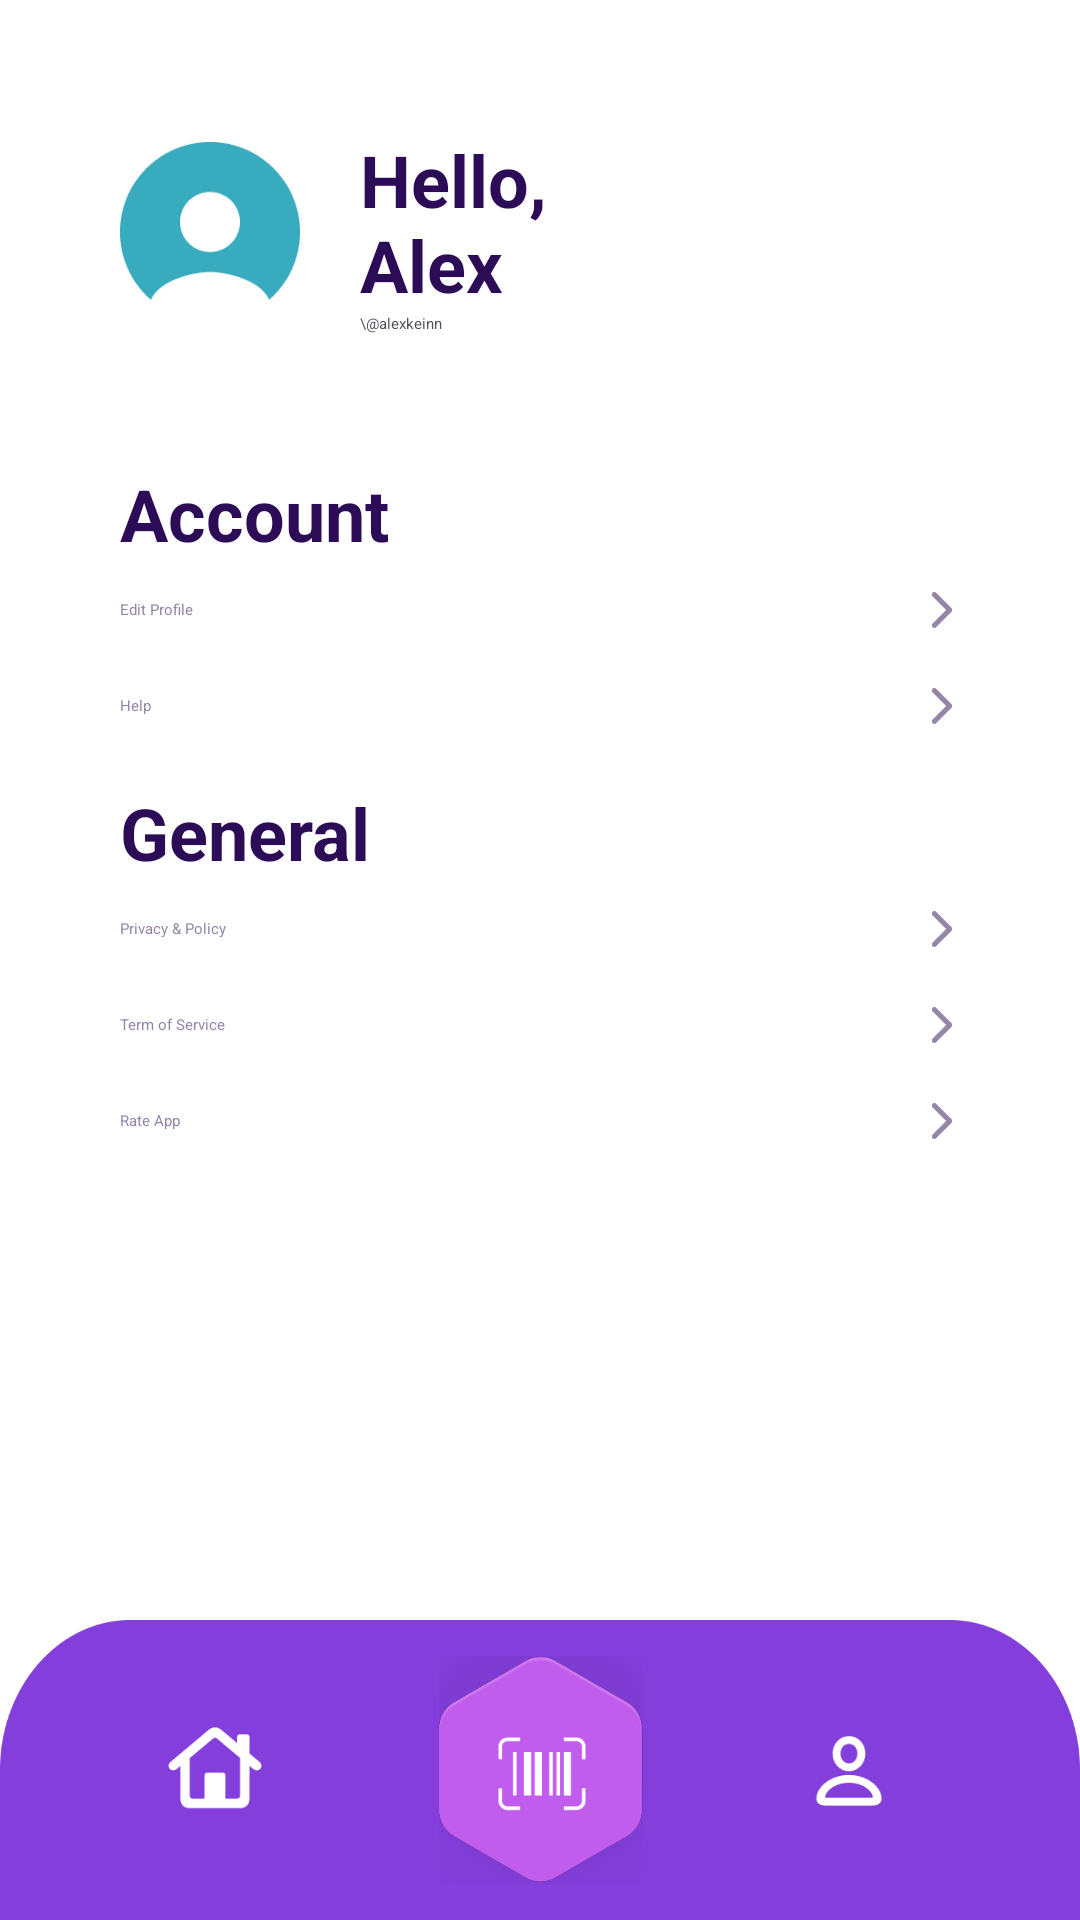

Named icons in this screenshot (1080 × 1920) and their bounding boxes, (x1, y1, x2, y2):
arrow: (932, 592, 952, 628), (932, 688, 952, 724), (932, 911, 952, 947), (932, 1007, 952, 1043), (932, 1103, 952, 1139)
home: (168, 1727, 262, 1809)
scan: (439, 1657, 643, 1882)
